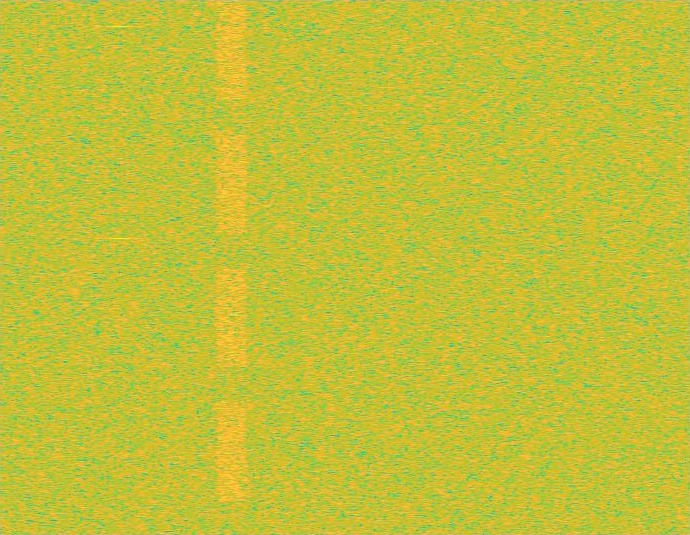5G: (215, 0, 249, 534)
Radar: (112, 0, 126, 534)
